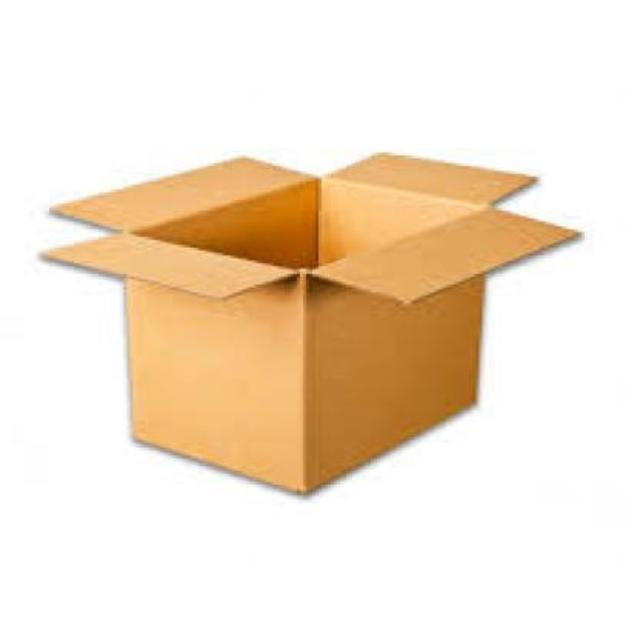cardboard_box: (34, 155, 586, 491)
